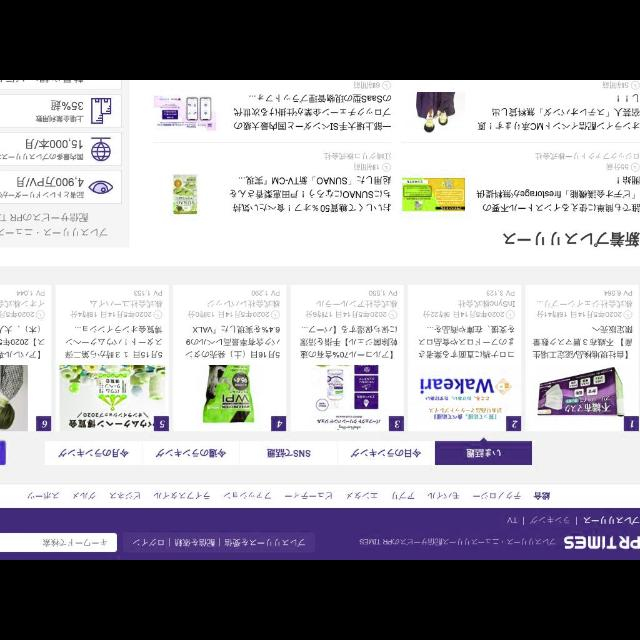icon: (506, 308, 518, 324), (152, 307, 164, 319), (630, 160, 640, 173), (37, 308, 47, 320), (380, 80, 390, 92), (388, 310, 398, 320), (382, 162, 392, 172), (624, 308, 632, 320), (272, 307, 280, 319), (633, 81, 639, 92)
image: (58, 367, 168, 431), (414, 372, 506, 420), (534, 373, 624, 419), (309, 362, 385, 412), (144, 92, 218, 136), (205, 368, 258, 422), (400, 174, 466, 213), (413, 94, 463, 134), (164, 174, 204, 220), (1, 364, 26, 432), (563, 534, 639, 552), (89, 96, 111, 122), (89, 138, 111, 160), (89, 182, 113, 194)
input: (0, 533, 120, 553)
multitab: (1, 484, 640, 508)
text: (472, 173, 638, 219), (230, 94, 392, 136), (474, 91, 638, 132), (230, 173, 392, 214), (66, 279, 166, 323), (528, 324, 634, 364), (184, 283, 284, 325), (1, 206, 109, 242), (66, 322, 164, 360), (414, 326, 516, 362), (528, 287, 634, 321), (182, 326, 282, 362), (298, 323, 396, 359), (422, 286, 518, 322), (302, 286, 396, 322), (500, 228, 640, 252), (533, 148, 639, 172), (134, 535, 308, 549), (359, 537, 557, 549), (1, 138, 87, 164), (1, 176, 88, 200), (319, 148, 393, 172), (1, 286, 49, 322), (1, 324, 45, 360), (33, 96, 83, 124), (352, 447, 422, 461), (56, 446, 130, 459), (156, 447, 226, 459), (282, 486, 334, 502), (153, 488, 210, 502), (582, 514, 638, 528), (224, 489, 272, 503), (527, 513, 575, 525), (40, 538, 112, 546), (472, 490, 524, 500), (265, 448, 311, 459), (342, 489, 378, 503), (26, 489, 62, 501), (466, 446, 502, 458), (108, 488, 142, 500), (428, 492, 460, 502), (71, 490, 95, 502), (606, 80, 628, 92), (389, 490, 415, 500), (355, 81, 377, 91), (533, 492, 551, 504), (504, 516, 518, 524)
textbutton: (123, 528, 314, 554)
toolbar: (1, 508, 640, 560)
